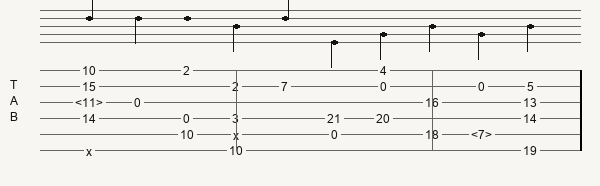0: (134, 96, 145, 109), (183, 112, 194, 125), (331, 128, 342, 141), (380, 80, 391, 93), (478, 80, 489, 93)
10: (82, 64, 100, 77), (180, 128, 198, 141), (229, 144, 247, 157)
13: (523, 96, 541, 109)
14: (82, 112, 100, 125), (523, 112, 541, 125)
15: (82, 80, 100, 93)
16: (425, 96, 443, 109)
18: (425, 128, 443, 141)
19: (523, 144, 541, 157)
2: (183, 64, 194, 77), (232, 80, 243, 93)
20: (376, 112, 394, 125)
21: (327, 112, 345, 125)
3: (232, 112, 243, 125)
4: (380, 64, 391, 77)
5: (527, 80, 538, 93)
7: (281, 80, 292, 93)
harmonic: (75, 96, 107, 109), (471, 128, 496, 141)
x: (86, 145, 96, 156), (233, 129, 243, 140)
